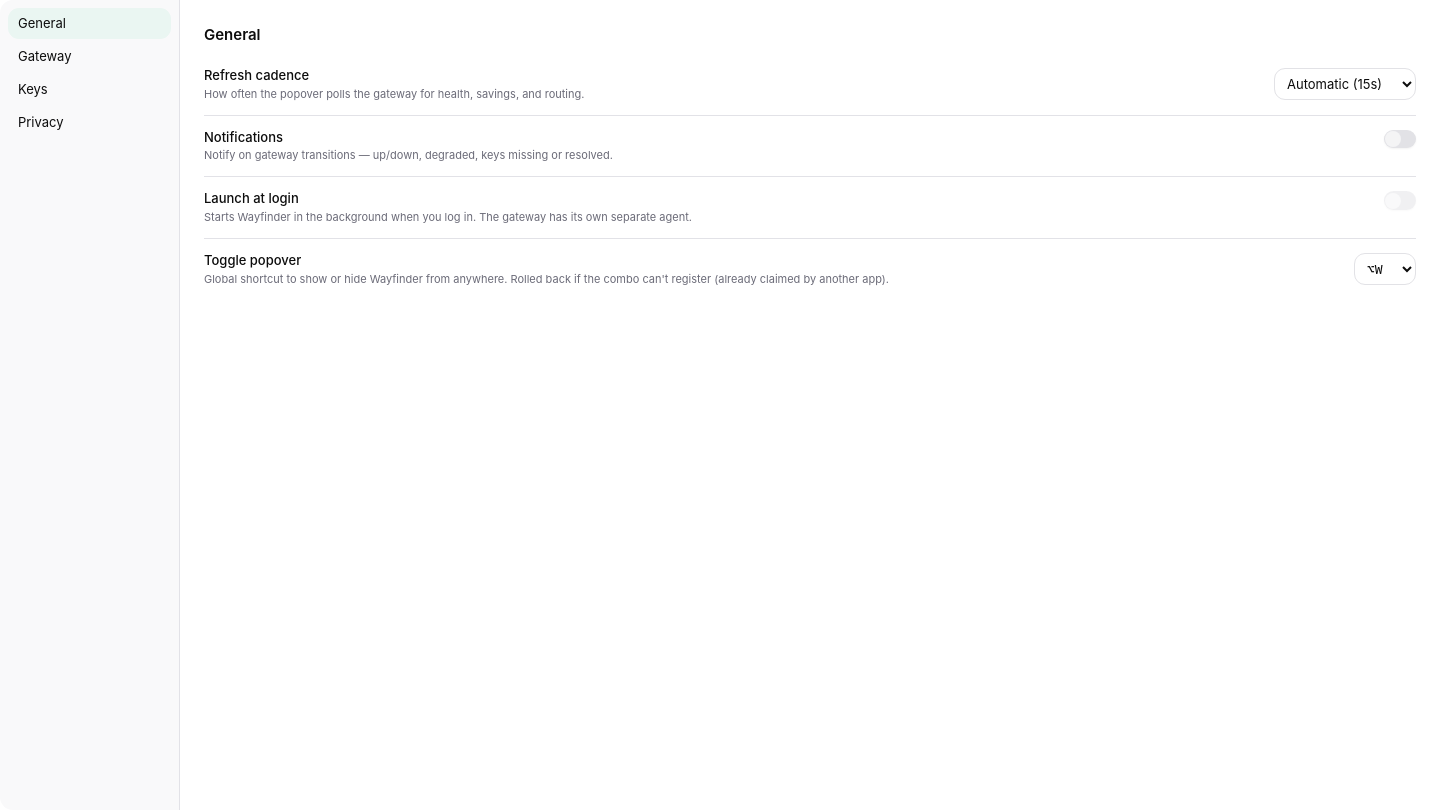
Test: SettingsWindow — sidebar + Mac-native Form rows (mirrors clawrouter-settings.png) › a rejected rebind rolls the choice back and shows the reason
The image size is (1440, 810).
Select "⌘⇧W" in the dropdown named "popover shortcut" at x=1385, y=269, box [1354,253,1416,285]
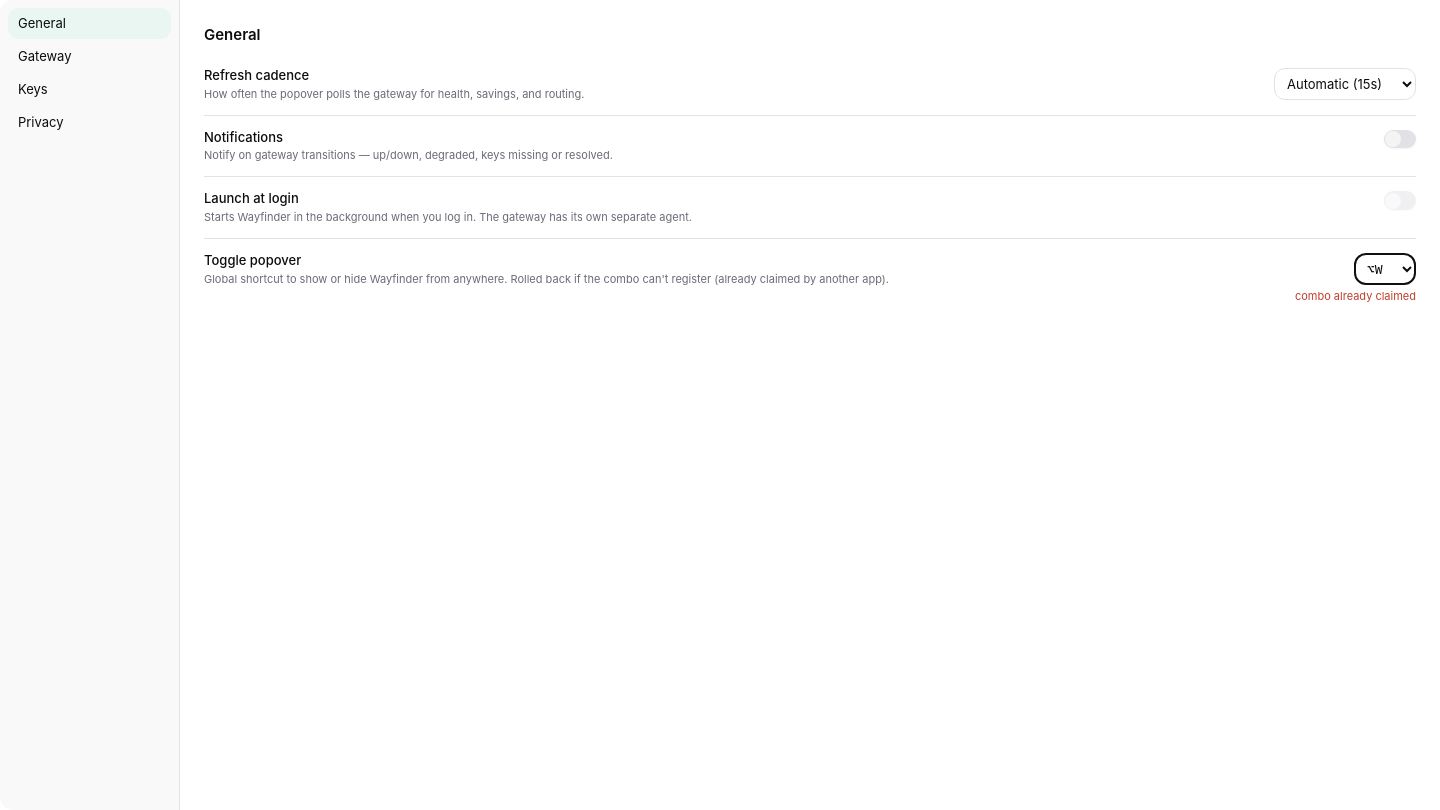
Expected: the text "combo already claimed" is shown, [1295,289,1416,305]
